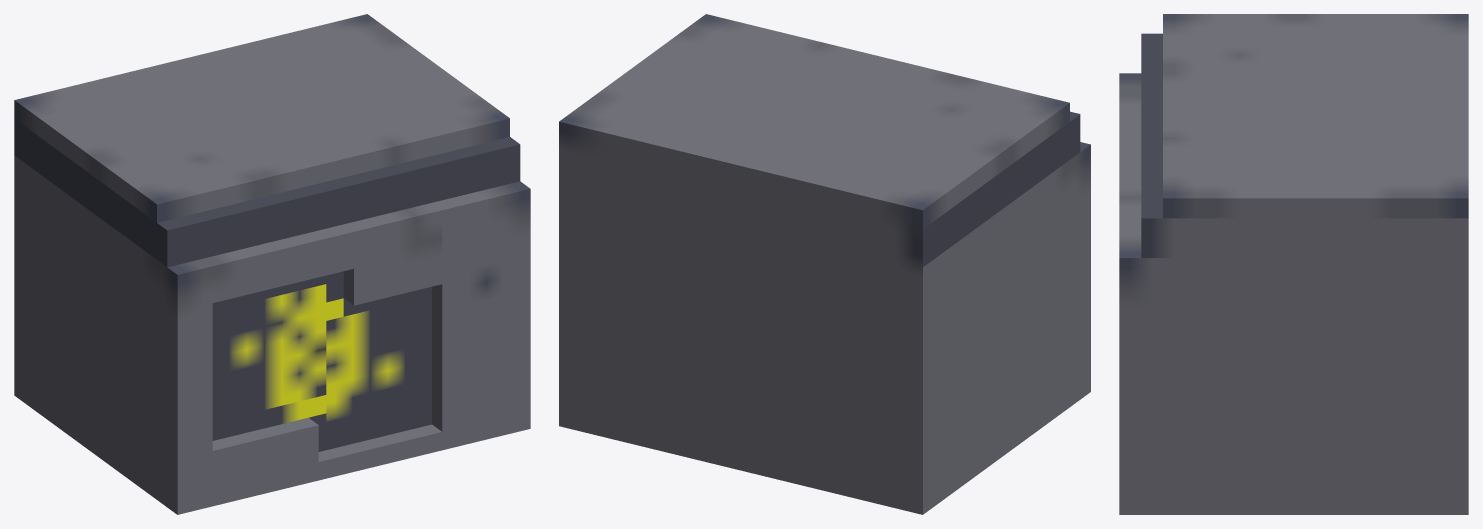
Rendered from Machine_Generator.fbx.
3 views of the same model, side by side, from view 1: azimuth 30°, elevation 25°; view 2: azimuth 150°, elevation 25°; view 3: azimuth 270°, elevation 25° (orthographic). The views are drawn at different scales.
Parts seen in each view (by area): view 1: Machine_Generator; view 2: Machine_Generator; view 3: Machine_Generator.
Part boxes in pixels (bbox=[...]): Machine_Generator: bbox=[14, 14, 530, 514]; Machine_Generator: bbox=[559, 14, 1090, 514]; Machine_Generator: bbox=[1119, 14, 1468, 514].
Bounding box in the file's own units: 200 × 160 × 160.
